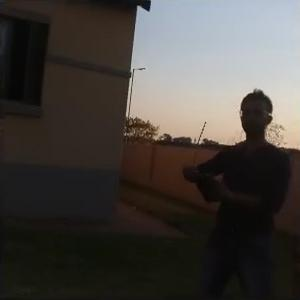follow: (177, 83, 296, 299)
